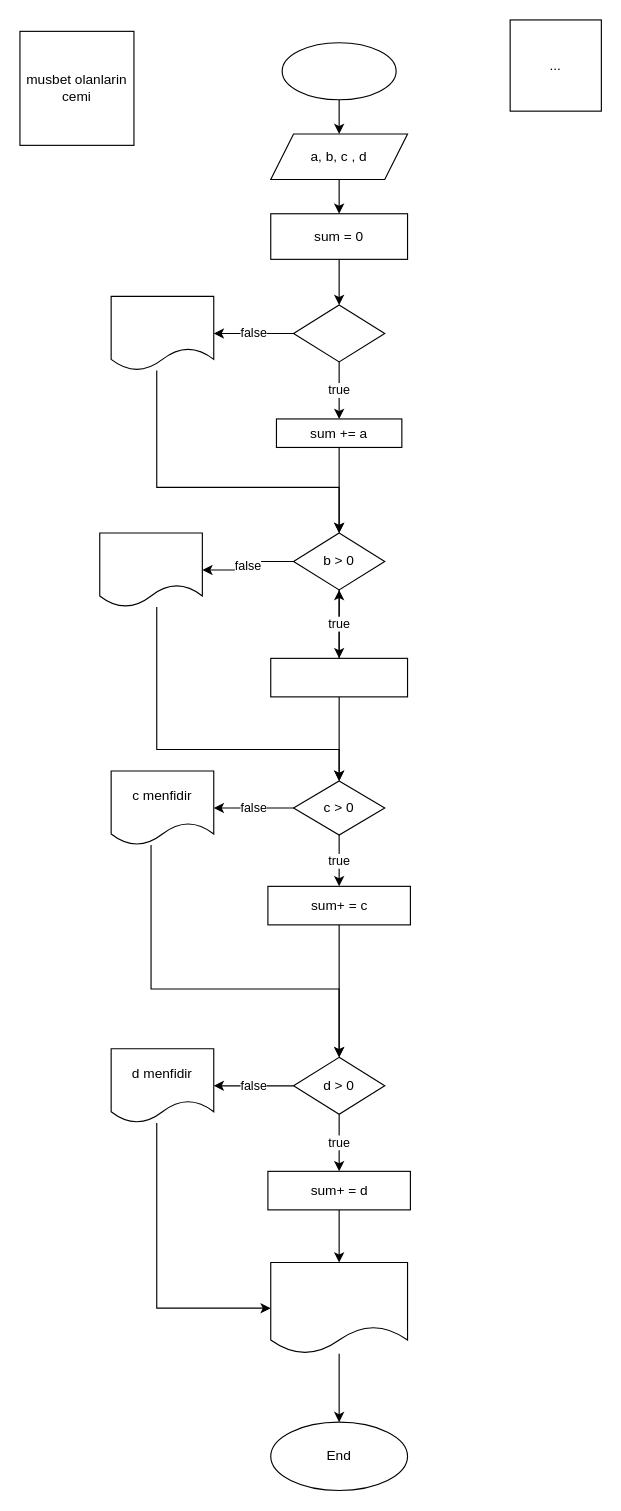
The diagram is 621 pixels wide and 1511 high, and some of its shapes have lost their labels. The centre of each missing label's shape, as x and y in pixels:
a > 0: point 338,333
a menfidir: point 162,332
b menfidir: point 150,569
Start: point 338,71
sum: point 339,1307
sum+ = b: point 339,677
